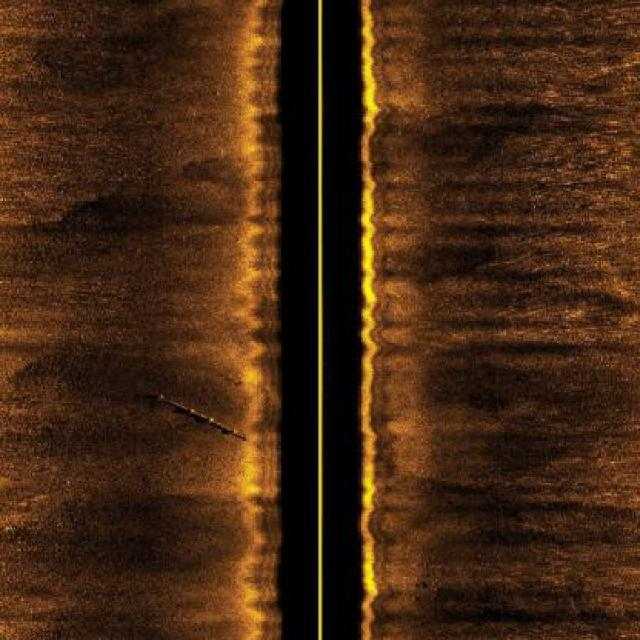other: (157, 394, 260, 449)
